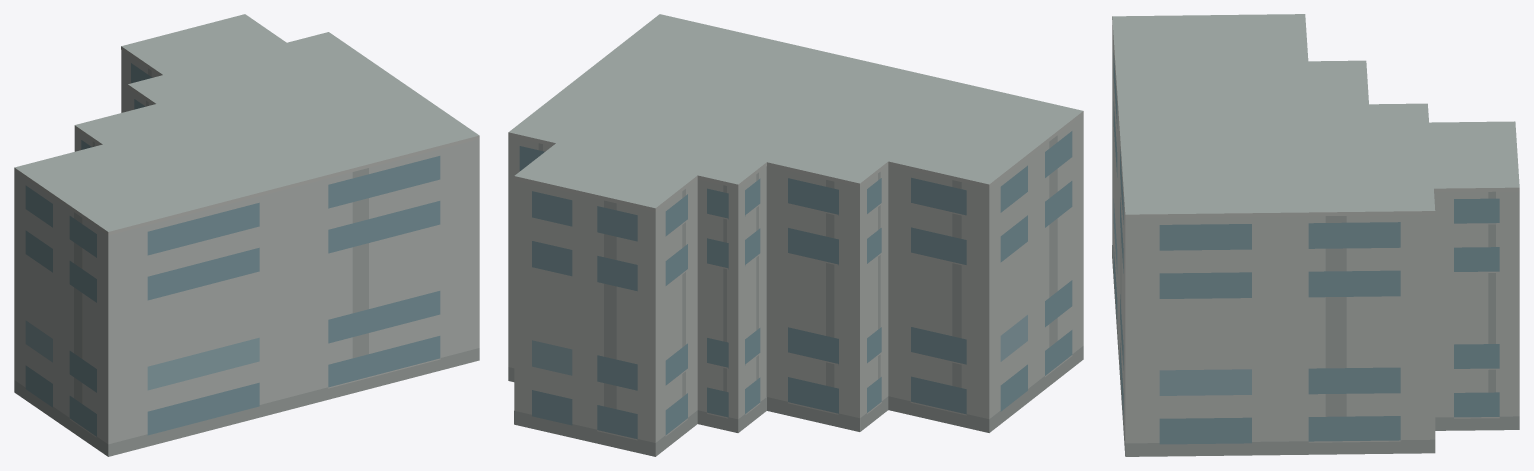
Rendered from residential-979b5d39-d4d3-48ca-a020-d26bd87408f9.glb.
3 views of the same model, side by side, from view 1: azimuth 30°, elevation 25°; view 2: azimuth 150°, elevation 25°; view 3: azimuth 270°, elevation 25° (orthographic). The views are drawn at different scales.
Parts seen in each view (by area): view 1: residential-979b5d39-d4d3-48ca-a020-d26bd87408f9.tmp; view 2: residential-979b5d39-d4d3-48ca-a020-d26bd87408f9.tmp; view 3: residential-979b5d39-d4d3-48ca-a020-d26bd87408f9.tmp.
Boxes of the visible parts, x1,y1,x2,y2 form: residential-979b5d39-d4d3-48ca-a020-d26bd87408f9.tmp: (14,14,479,456); residential-979b5d39-d4d3-48ca-a020-d26bd87408f9.tmp: (508,14,1083,456); residential-979b5d39-d4d3-48ca-a020-d26bd87408f9.tmp: (1112,14,1519,456).
Size of the model in its own units: 27.09 by 15.25 by 23.26.
